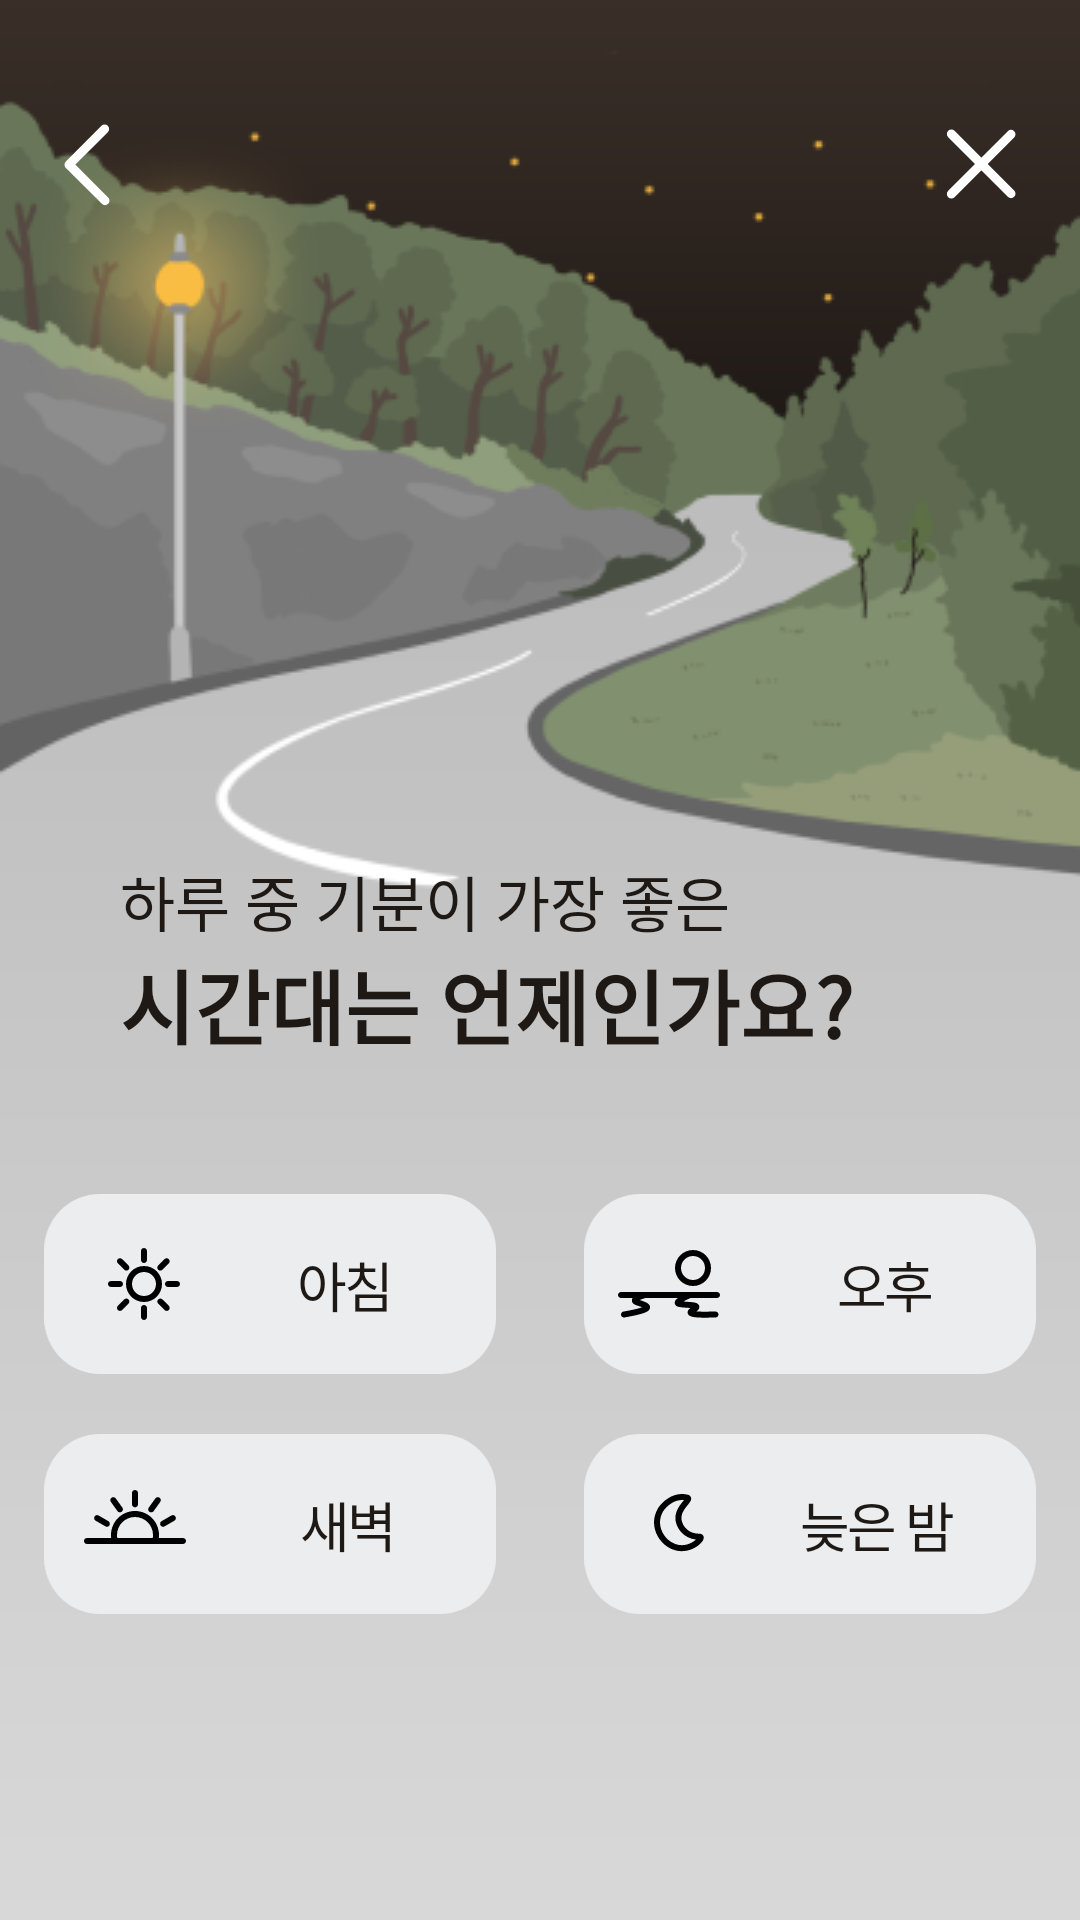

Point at icon controls on the screen. Image size 1080px×1920px, points as (x,y).
back arrow: (87,163)
cancel: (981,164)
